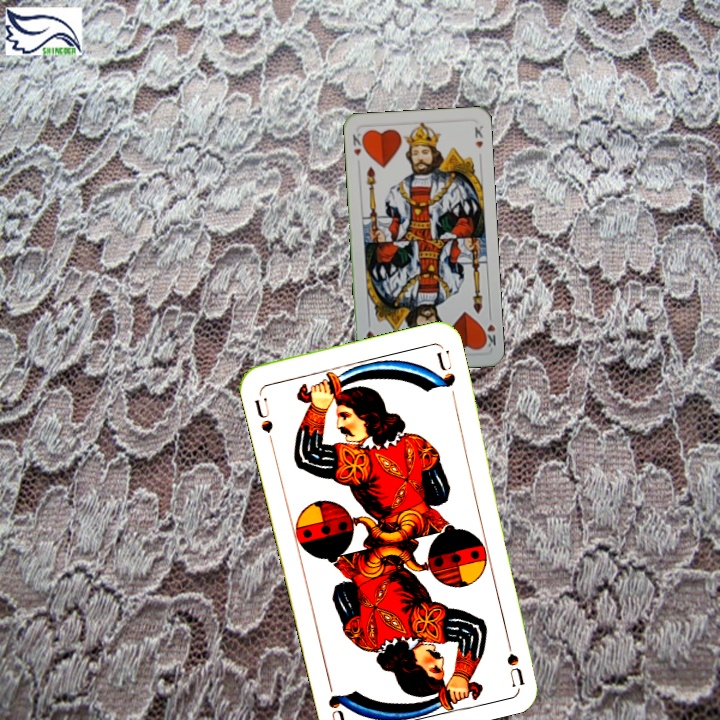HK: (479, 309, 499, 350), (349, 129, 367, 158)
SU: (501, 628, 527, 688), (251, 389, 276, 447)
